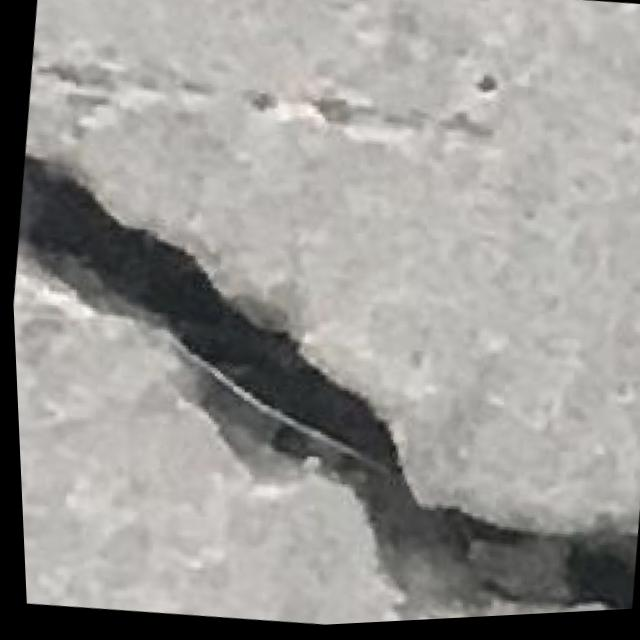Crack: (5, 114, 640, 640)
